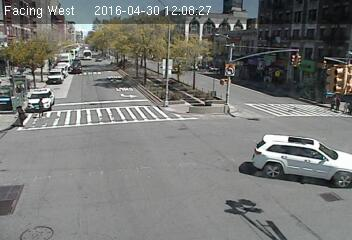neg: (159, 78, 174, 99), (116, 54, 131, 73), (261, 72, 276, 91), (188, 73, 200, 89), (36, 66, 47, 80)
pos: (11, 104, 29, 128), (33, 97, 50, 120), (332, 93, 346, 111)
